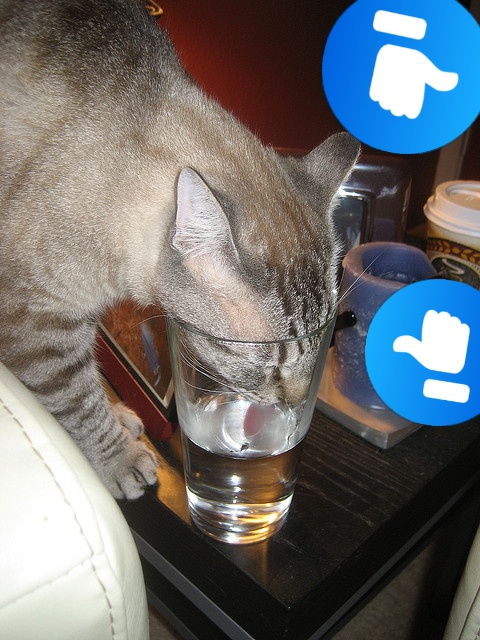like: (322, 0, 480, 154), (365, 279, 480, 426)
